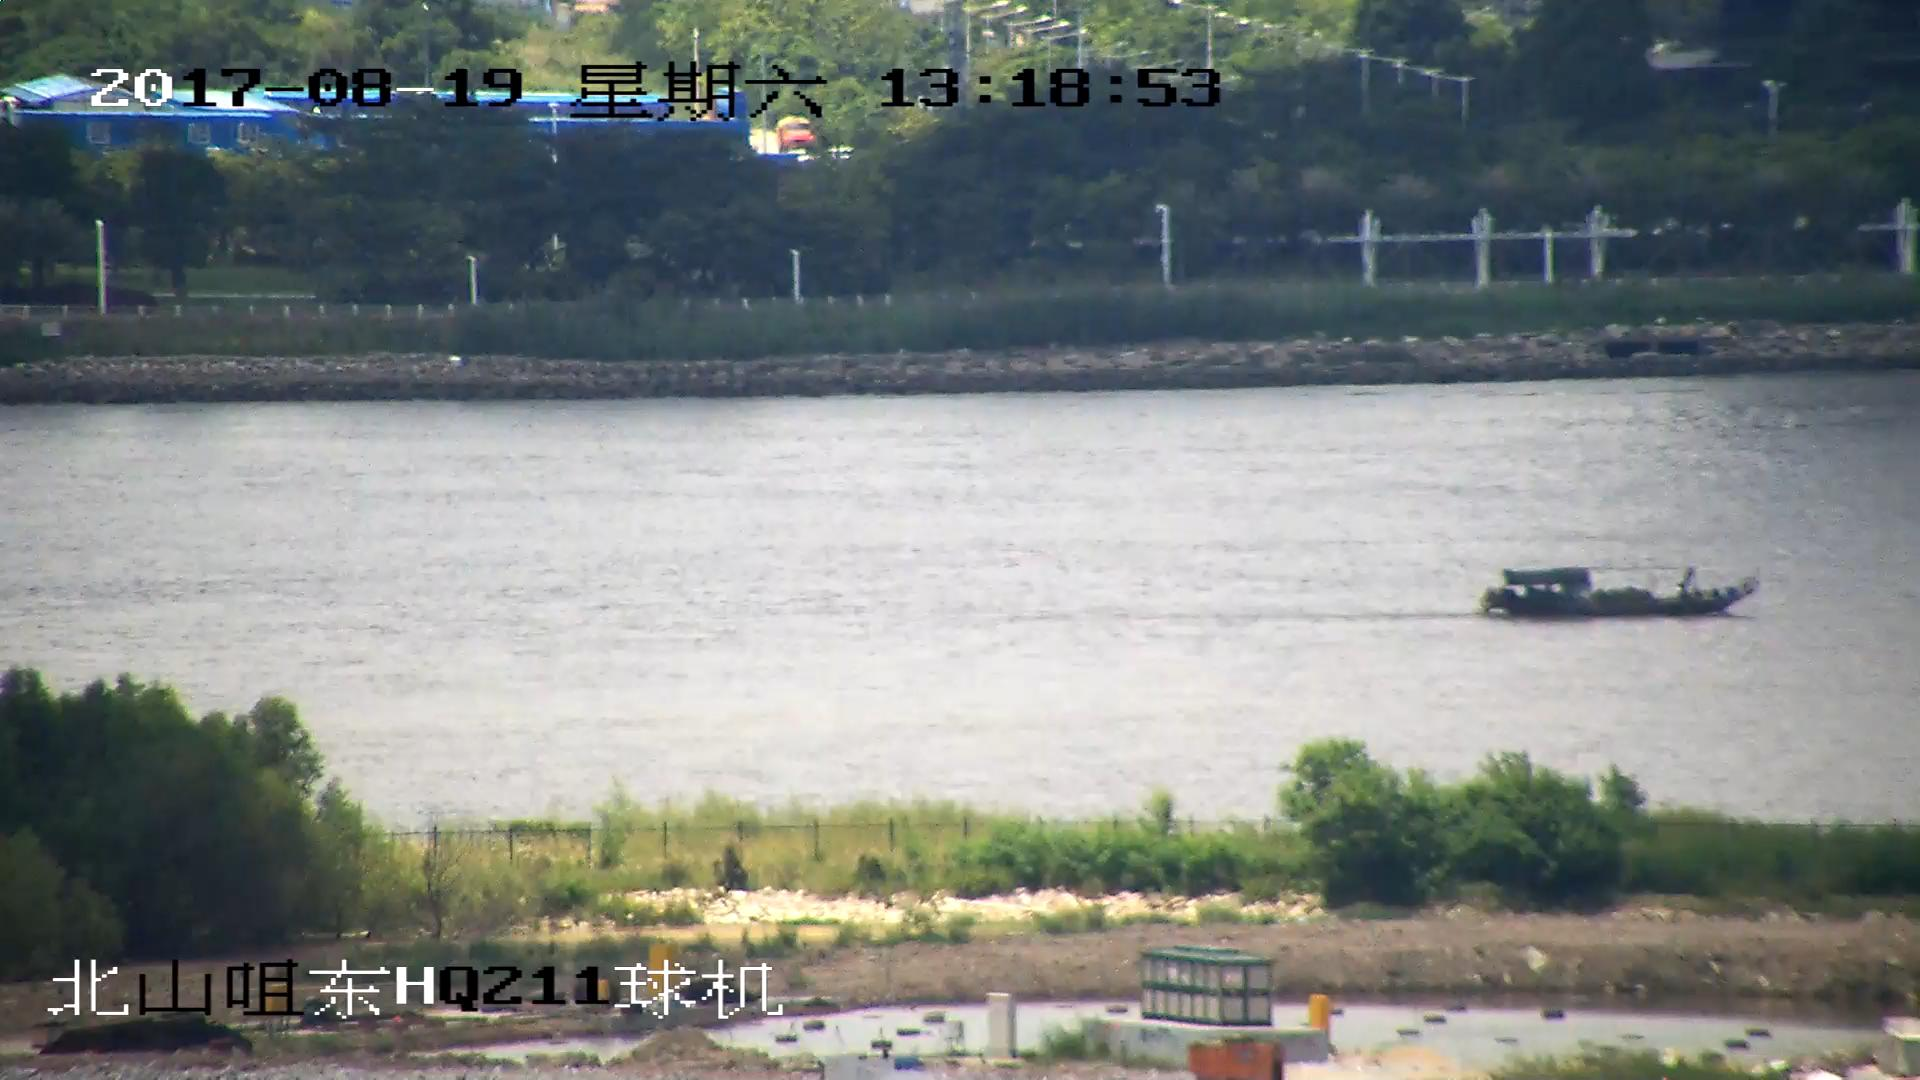fishing boat: (1481, 568, 1754, 615)
